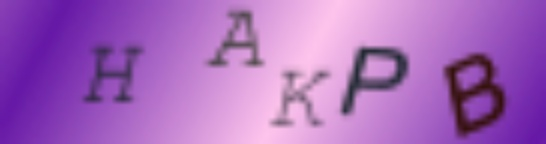A: (204, 7, 273, 69)
B: (438, 50, 511, 136)
H: (81, 41, 147, 110)
K: (268, 63, 335, 130)
P: (338, 43, 412, 117)
